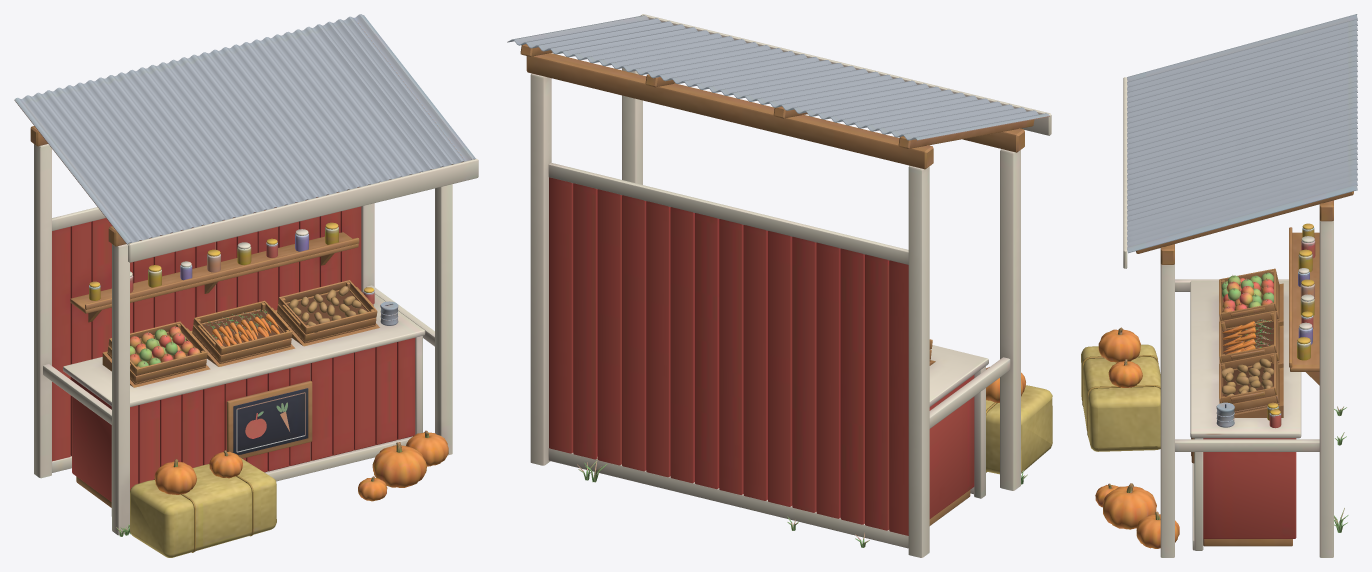
File: farm-stand.glb
3 renders of one model, left to right at view 1: azimuth 30°, elevation 25°; view 2: azimuth 150°, elevation 25°; view 3: azimuth 270°, elevation 25°, orthographic. The views are drawn at different scales.
Visible parts, largest first — view 1: farm-stand_body; view 2: farm-stand_body; view 3: farm-stand_body.
Part boxes in pixels (bbox=[...]): farm-stand_body: bbox=[14, 14, 478, 557]; farm-stand_body: bbox=[507, 14, 1052, 557]; farm-stand_body: bbox=[1081, 14, 1357, 557].
Bounding box in the file's own units: 2.56 × 2.58 × 1.72.
Materials: 1 (1 with a texture image).
